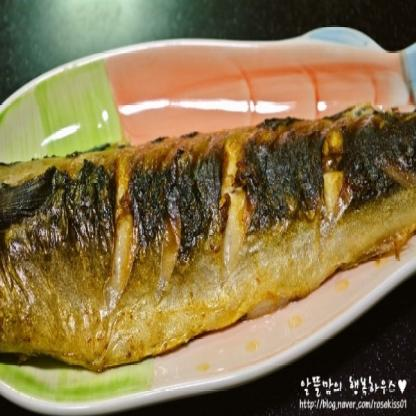Peixe: (0, 103, 416, 371)
